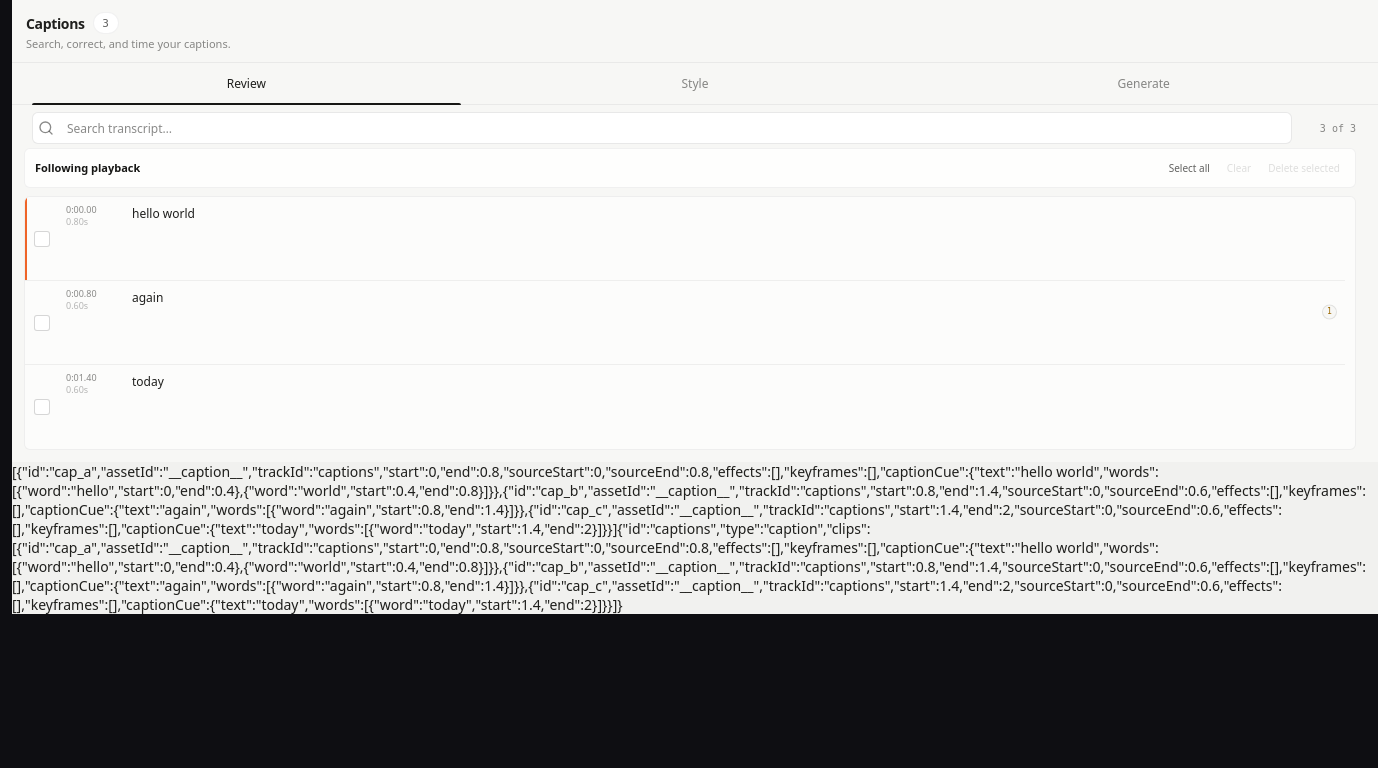
Test: CaptionWorkspace workflow › commits timing fields once instead of writing on every keystroke
Click the button named "Edit caption \"hello world\"" at {"x": 163, "y": 213}, box [128,201,1340,254]
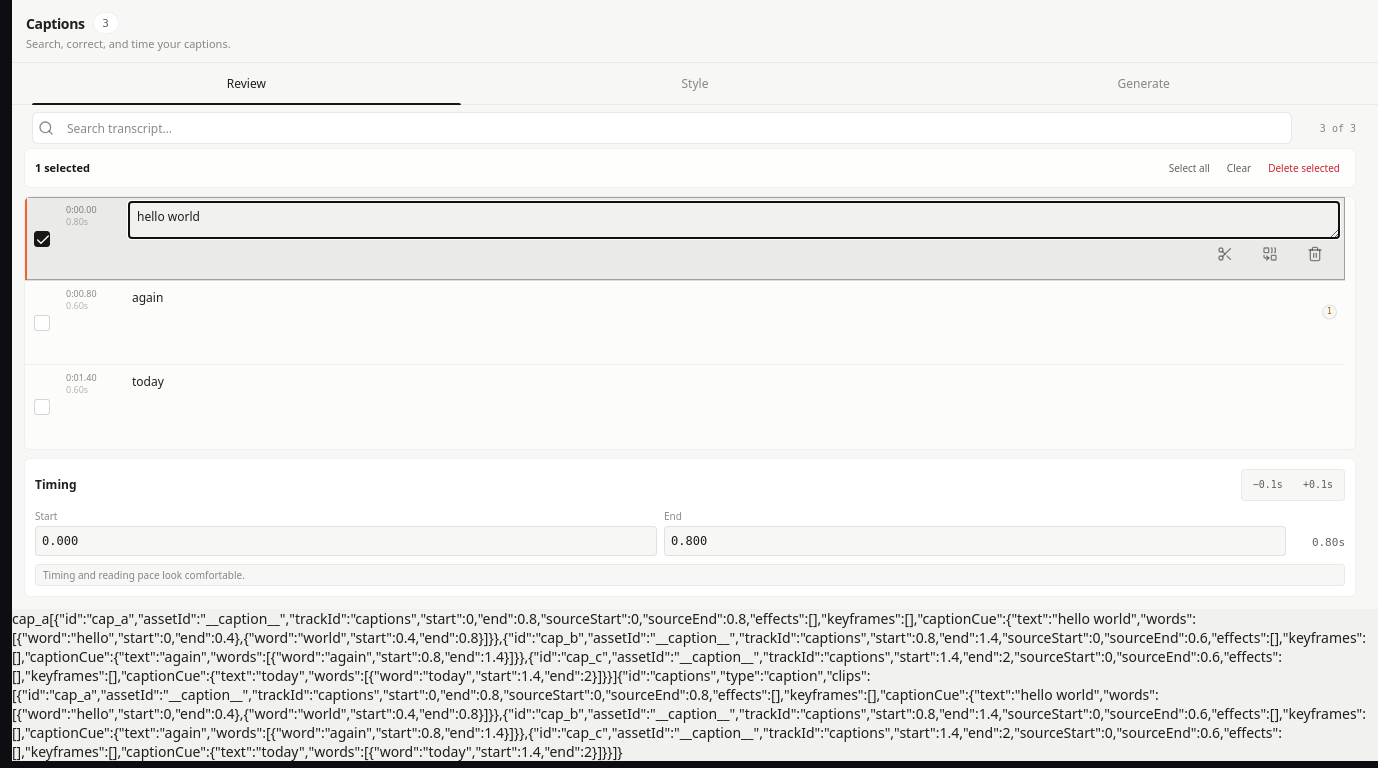
Leave the text box named "Caption text at", box [128,201,1340,239]
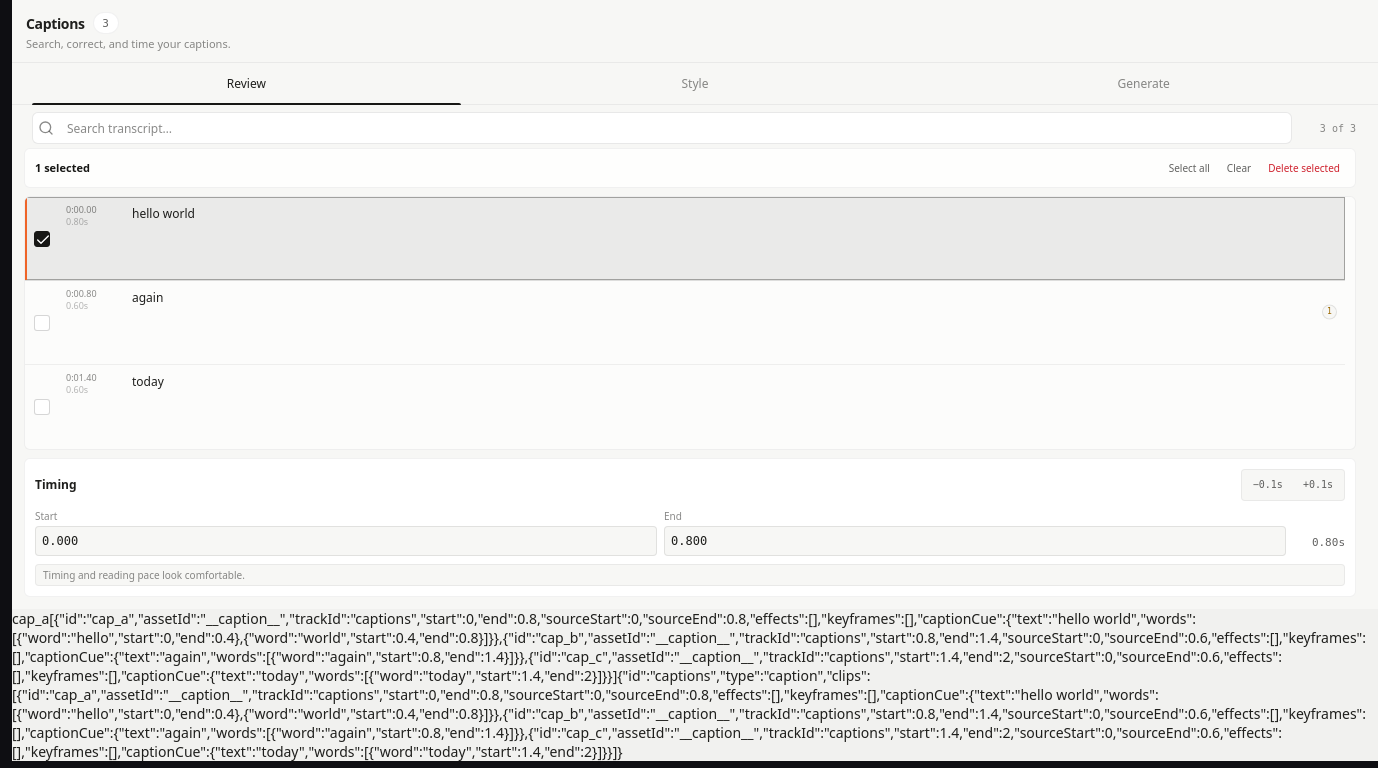
Replace the text in the number field named "Caption start time" with "0.1" at {"x": 346, "y": 541}, box [35,526,657,556]
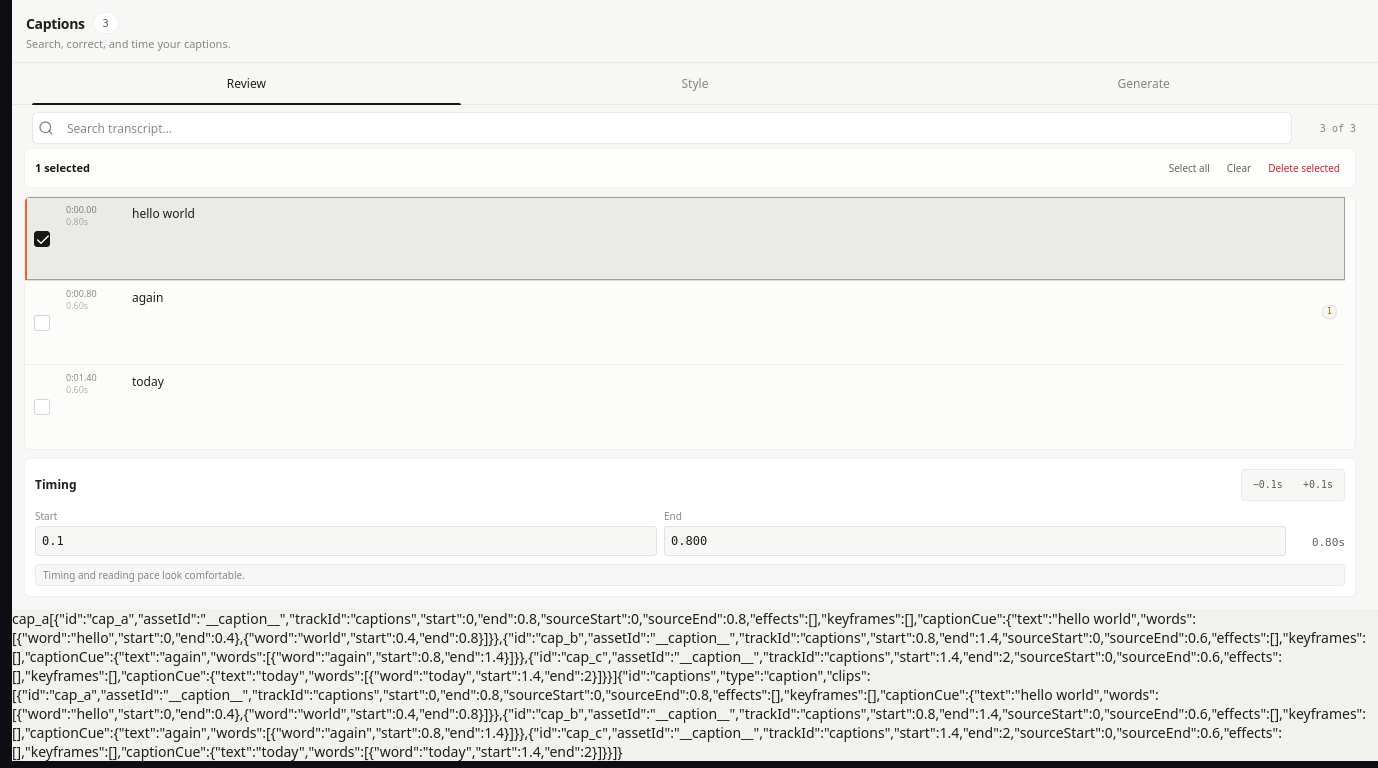
Expected: the text with test id "caption-state" shows "\"start\":0", [12,609,1366,685]
Leave the number field named "Caption start time", box [35,526,657,556]
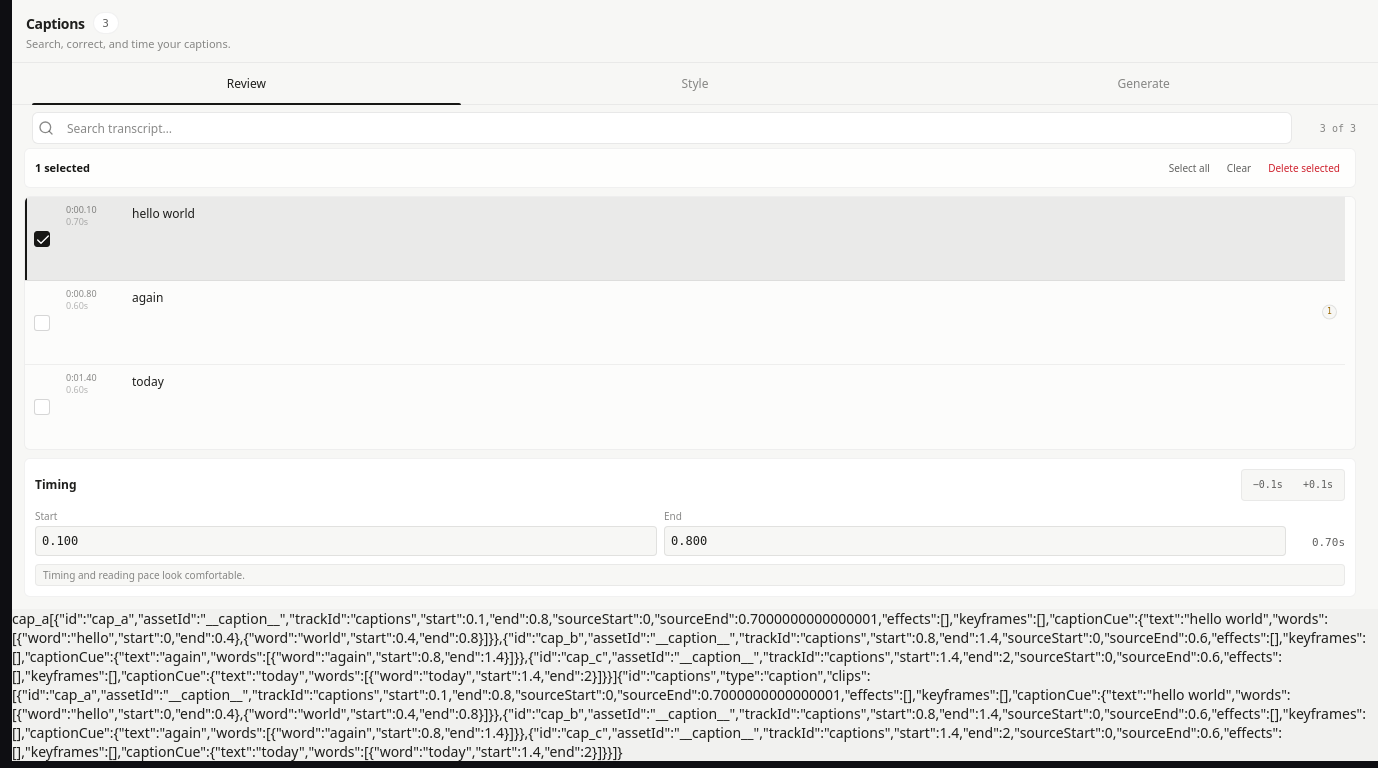
Expected: the text with test id "caption-state" shows "\"start\":0.1", [12,609,1366,685]
